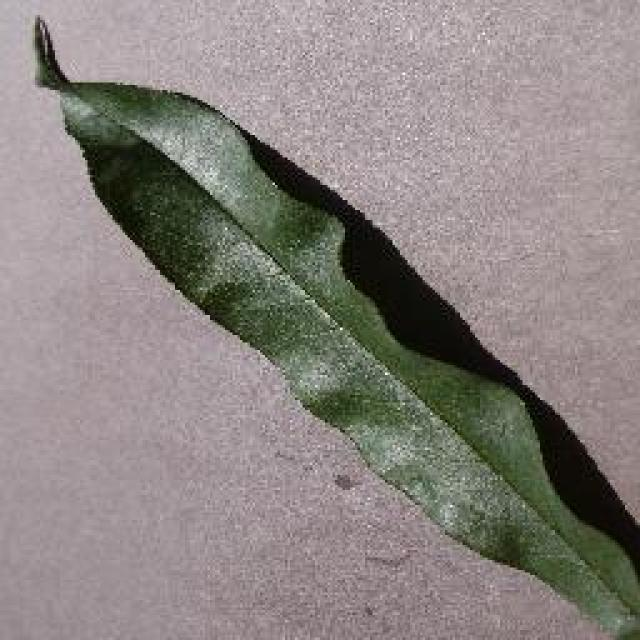Pea_healthy: (74, 87, 581, 592)
